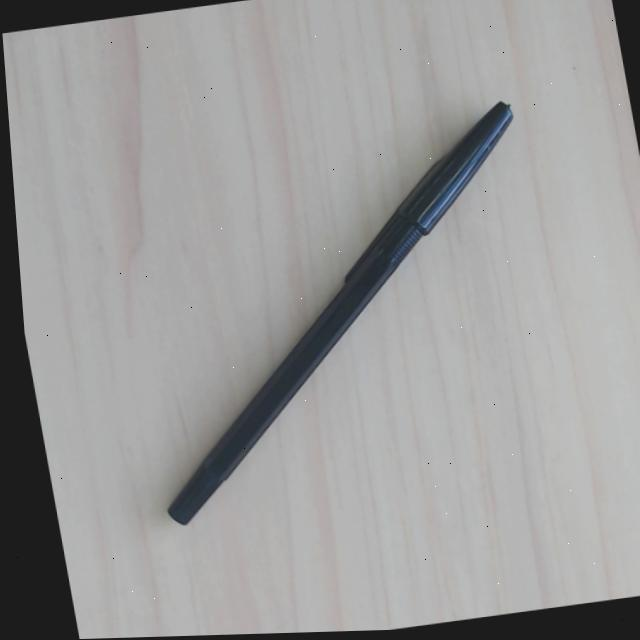Pulpen-Hitam: (154, 90, 524, 528)
